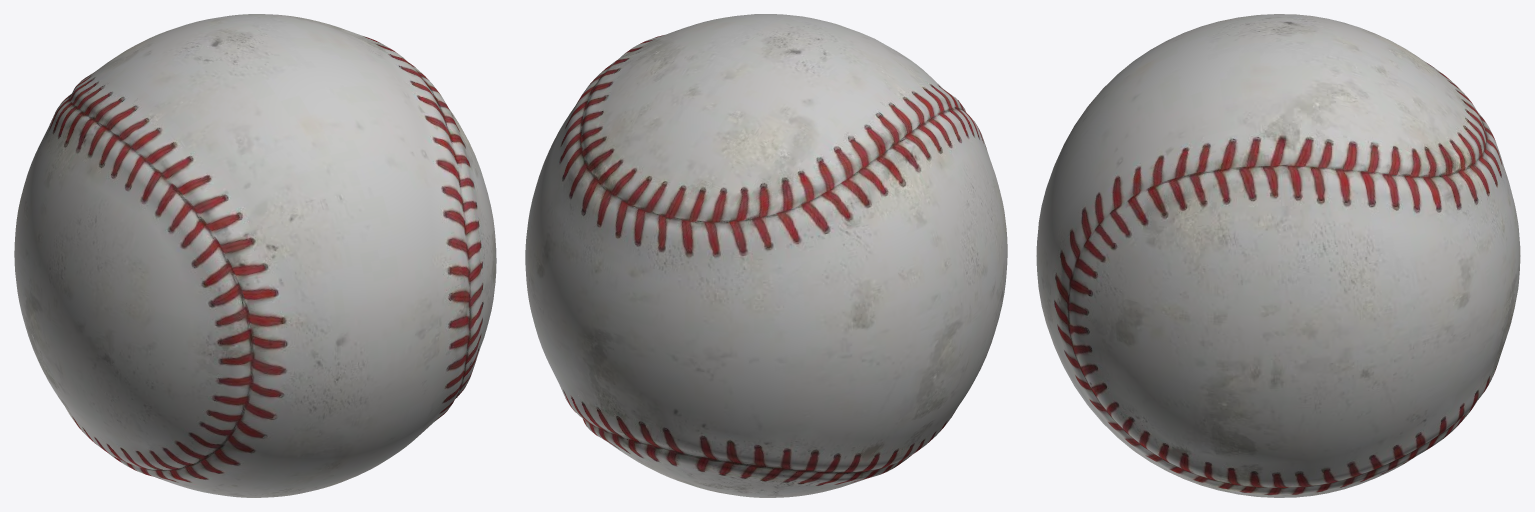
Rendered from baseball_01.glb.
3 renders of one model, left to right at view 1: azimuth 30°, elevation 25°; view 2: azimuth 150°, elevation 25°; view 3: azimuth 270°, elevation 25°, orthographic.
Visible parts, largest first — view 1: baseball_01; view 2: baseball_01; view 3: baseball_01.
Boxes of the visible parts, box(x1,y1,x2,y2) form: baseball_01: box(14, 14, 496, 497); baseball_01: box(525, 14, 1007, 497); baseball_01: box(1036, 14, 1520, 497).
Size of the model in its own units: 0.0735 by 0.0753 by 0.0752.
Materials: 1 (1 with a texture image).
